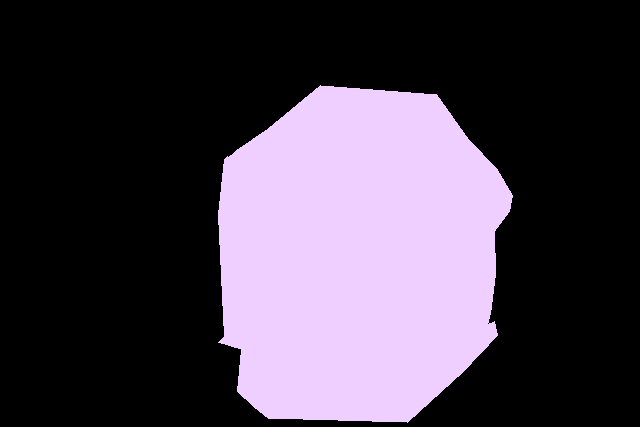Train: (218, 85, 513, 423)
